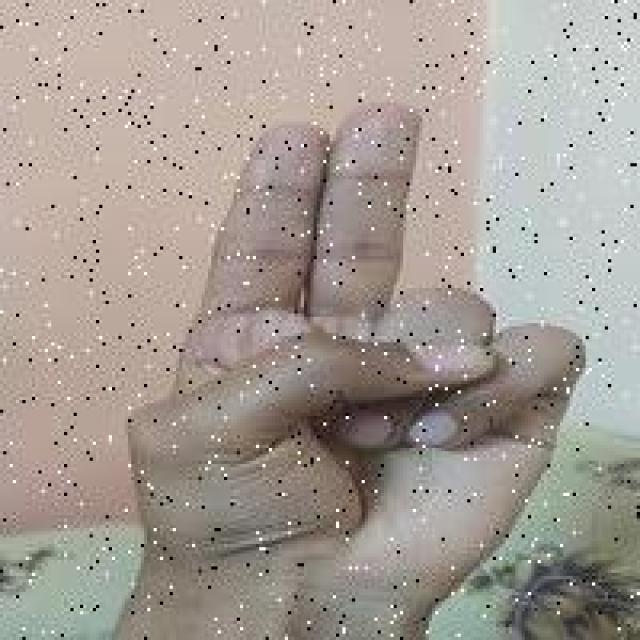U: (117, 96, 590, 589)
